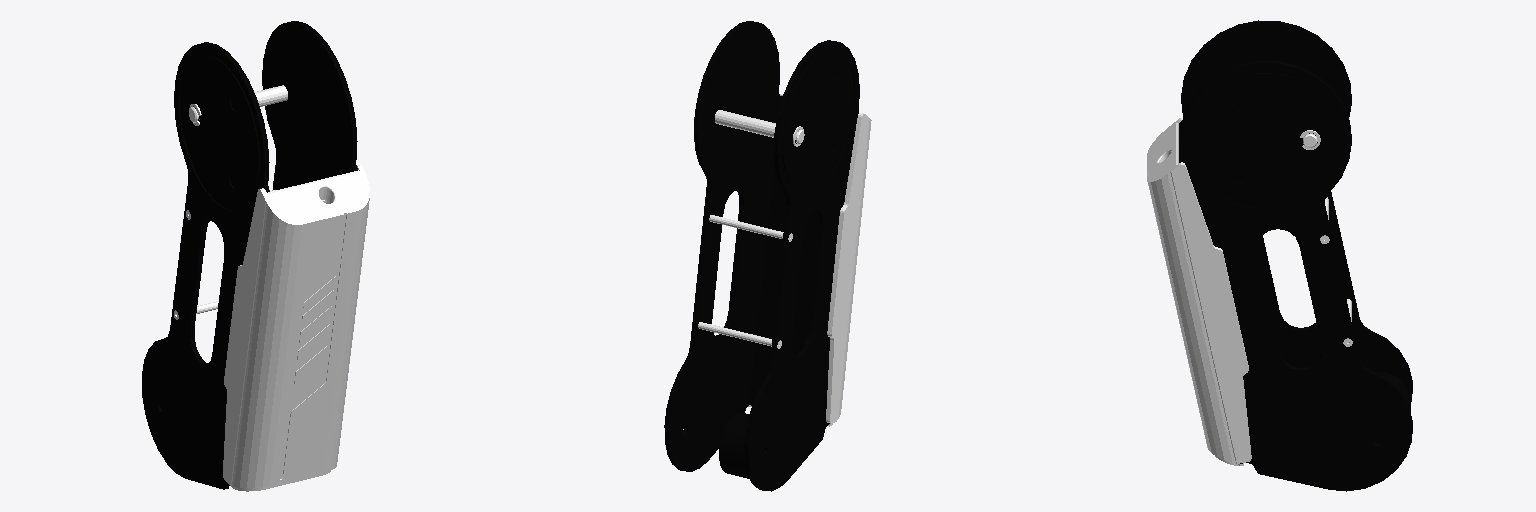
URDF robot description (magician):
<robot name="magician">

    <!-- Defining the colors used in this robot -->
    <material name="Black">
        <color rgba="0 0 0 1"/>
    </material>

    <material name="White">
        <color rgba="1 1 1 1"/>
    </material>

    <material name="Grey">
        <color rgba="0.9 0.9 0.9 1"/>
    </material>

    <!--  -->
    <link name="base_link">
        <visual>
            <origin xyz="0 0 0" rpy="0 0 0"/>
            <geometry>
                <mesh filename="meshes/base_link.STL"/>
            </geometry>
            <material name="White"/>
        </visual>
        <collision>
            <origin xyz="0 0 0" rpy="0 0 0"/>
            <geometry>
                <mesh filename="meshes/base_link.STL"/>
            </geometry>
        </collision>
    </link>

    <joint name="joint_1" type ="revolute">
        <origin xyz="0 0 0.024" rpy="0 0 0"/>
        <parent link="base_link"/>
        <child link="link_1"/>
        <axis xyz="0 0 1"/>
        <limit effort="150.0" lower="-3.14159265" upper="3.14159265" velocity="3.15"/>
    </joint>

    <link name="link_1">
        <visual>
            <origin xyz="0 0 0" rpy="0 0 0"/>
            <geometry>
                <mesh filename="meshes/link_1.dae"/>
            </geometry>
            <!--material name="White"/-->
        </visual>
        <collision>
            <origin xyz="0 0 0" rpy="0 0 0"/>
            <geometry>
                <mesh filename="meshes/link_1.STL"/>
            </geometry>
        </collision>
    </link>

    
    <joint name="joint_2" type="revolute">
        <origin xyz="-0.01175 0 0.114" rpy="1.570796325 0 -1.570796325"/>
        <parent link="link_1"/>
        <child link="link_2"/>
        <axis xyz="0 0 1"/>
        <limit effort="150.0" lower="0" upper="1.570796325" velocity="3.15"/>
    </joint>

    <link name="link_2">
        <visual>
            <origin xyz="0 0 0" rpy="0 0 0"/>
            <geometry>
                <mesh filename="meshes/link_2_new.dae"/>
            </geometry>
            <!--material name="Black"/-->
        </visual>
        <collision>
            <origin xyz="0 0 0" rpy="0 0 0"/>
            <geometry>
                <mesh filename="meshes/link_2.STL"/>
            </geometry>
        </collision>
    </link>

    <joint name="joint_5" type ="revolute">
        <origin xyz="0.02699 0.13228 -0.01175" rpy="0 3.14159265 0"/>
        <parent link="link_2"/>
        <child link="link_5"/>
        <axis xyz="0 0 1"/>
        <limit effort="150.0" lower="0" upper="1.570796325" velocity="3.15"/>
    </joint>

    <link name="link_5">
        <visual>
            <origin xyz="0 0 0" rpy="0 0 0"/>
            <geometry>
                <mesh filename="meshes/link_5.dae"/>
            </geometry>
            <!-- material name="White"/-->
        </visual>
        <collision>
            <origin xyz="0 0 0" rpy="0 0 0"/>
            <geometry>
                <mesh filename="meshes/link_5.dae"/>
            </geometry>
        </collision>
    </link>

    <joint name="joint_6" type ="revolute">
        <origin xyz="0.07431 -0.12684 0.0" rpy="0 3.14159265 0"/>
        <parent link="link_5"/>
        <child link="link_6"/>
        <axis xyz="0 0 1"/>
        <limit effort="150.0" lower="-3.14159265" upper="3.14159265" velocity="3.15"/>

    </joint>

    <link name="link_6">
        <visual>
            <origin xyz="0 0 0" rpy="0 0 0"/>
            <geometry>
                <mesh filename="meshes/link_6.STL"/>
            </geometry>
            <material name="Grey"/>
        </visual>
        <collision>
            <origin xyz="0 0 0" rpy="0 0 0"/>
            <geometry>
                <mesh filename="meshes/link_6.STL"/>
            </geometry>
        </collision>
    </link>

</robot>  

--- What the picture shows (computed from the rendered views, not written in the file) ---
The picture shows the robot from 3 angles, left to right: view 1: azimuth 30°, elevation 25°; view 2: azimuth 150°, elevation 25°; view 3: azimuth 270°, elevation 25°; orthographic projection.
Model magician with 5 links and 4 joints (4 revolute), rooted at base_link, posed every joint at zero.
Links seen in each view (by area): view 1: link_2; view 2: link_2; view 3: link_2.
Boxes of the visible links, x1,y1,x2,y2 form: link_2: (142,21,369,491); link_2: (664,21,871,491); link_2: (1147,20,1412,491).
Size in the robot's own frame: 0.0442 by 0.1057 by 0.1878 metres.
Meshes: 5 distinct files referenced, 1 mesh visuals loaded (1 Collada DAE); not drawn: 4 (reference not matched to a file when rendering).